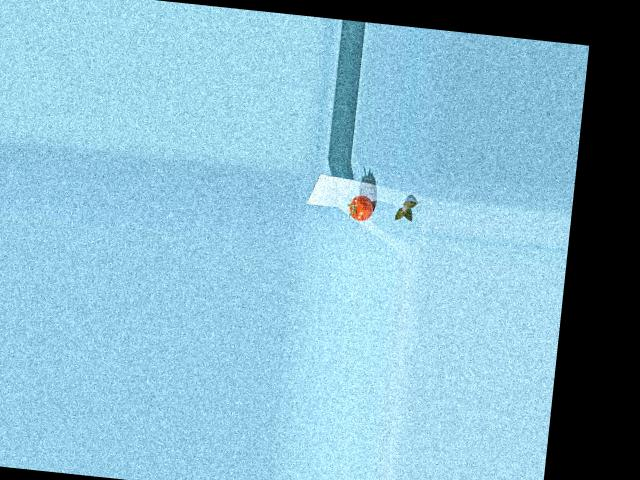tomato: (347, 193, 374, 222)
